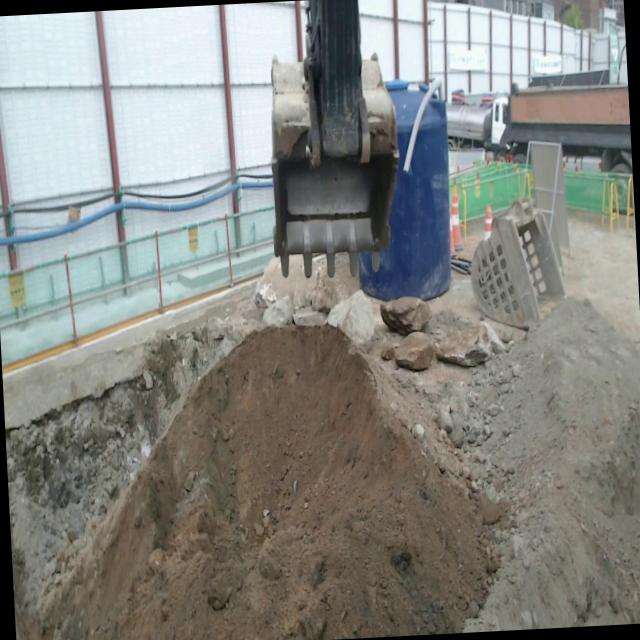red-sand: (65, 326, 503, 640)
stone: (262, 256, 359, 311), (431, 309, 512, 366), (326, 289, 374, 345), (381, 297, 431, 335), (393, 332, 436, 371)
white-sand: (366, 218, 640, 633)
